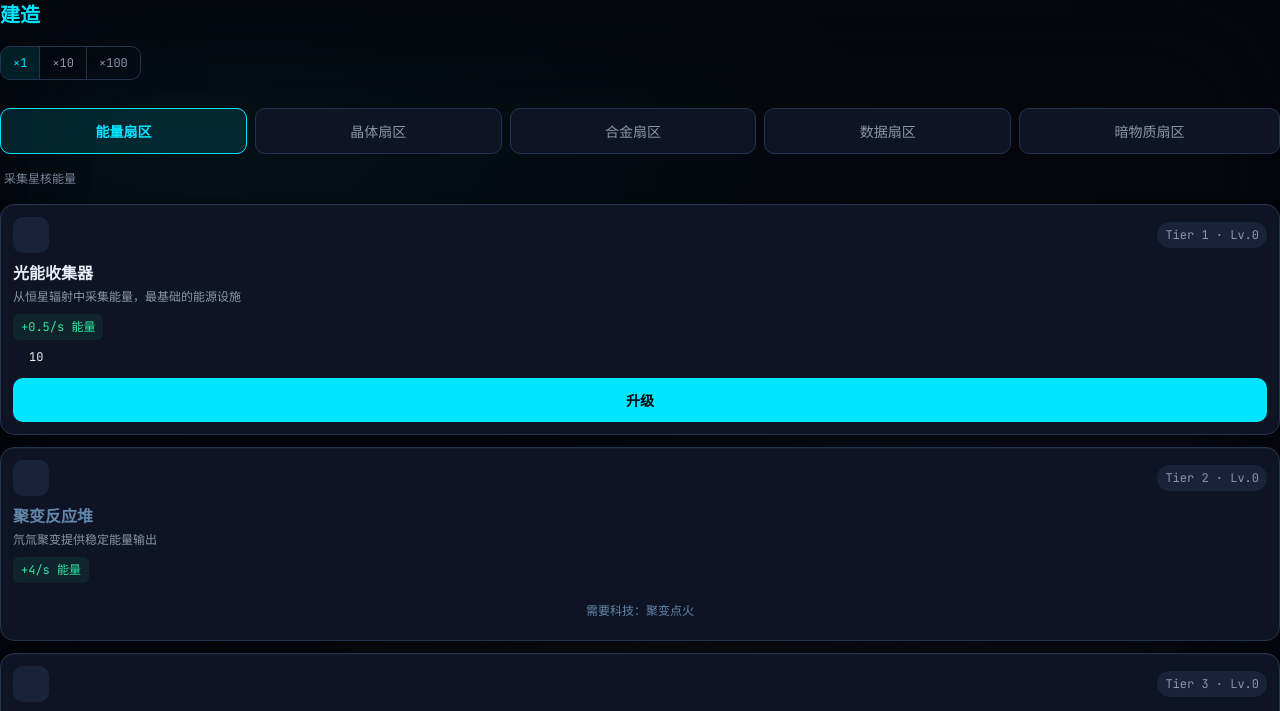
Test case: BuildView — 挂载与渲染 › 点击扇区页签切换建筑列表
This screenshot has width=1280, height=711.
切到晶体扇区（第 2 个页签）
Click the button with class "sector-tab" showing "晶体扇区" at {"x": 378, "y": 131}, box left=255, top=108, right=502, bottom=154
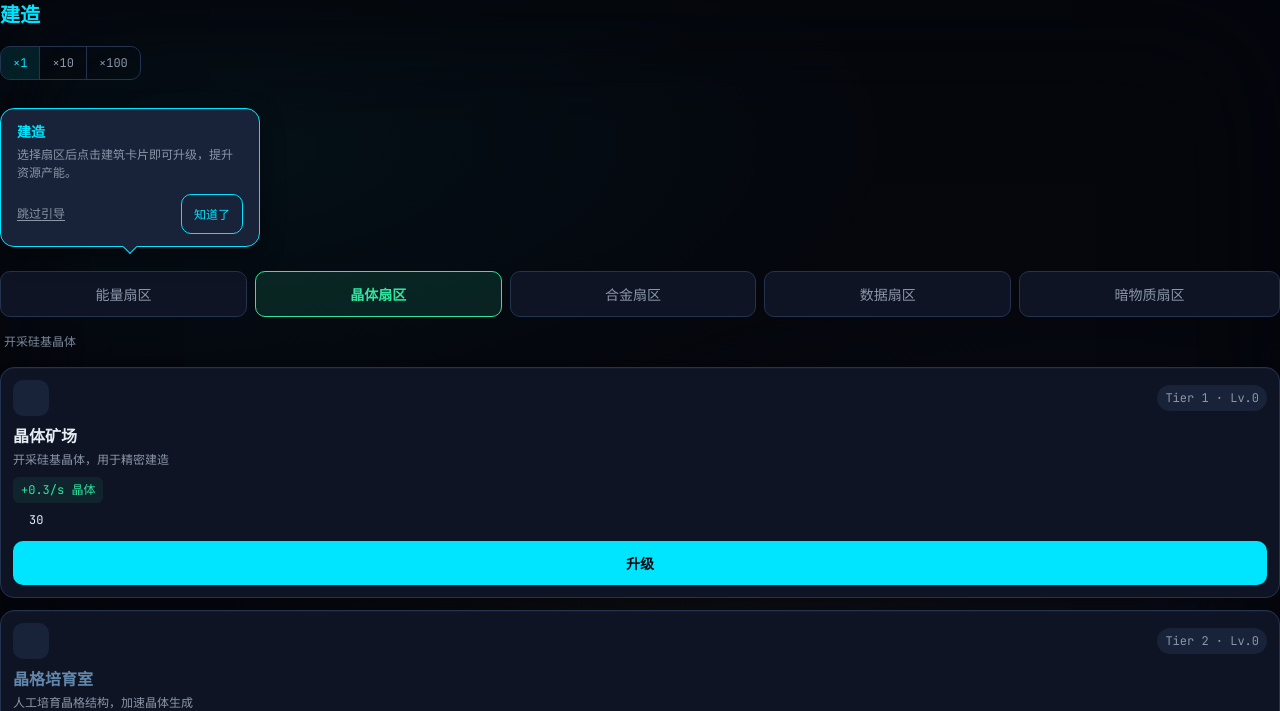
Expected: the button with class "sector-tab" reads "晶体扇区", left=255, top=271, right=502, bottom=317
Result: the text with class "sector-desc" reads "开采硅基晶体" at left=4, top=333, right=76, bottom=350
